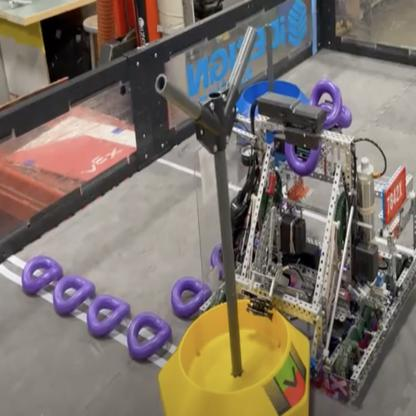ring: (127, 312, 171, 360), (86, 293, 130, 335), (284, 130, 322, 177), (170, 275, 212, 317), (52, 274, 95, 315), (307, 78, 341, 129), (22, 254, 62, 294), (317, 101, 352, 129), (210, 244, 235, 278)
